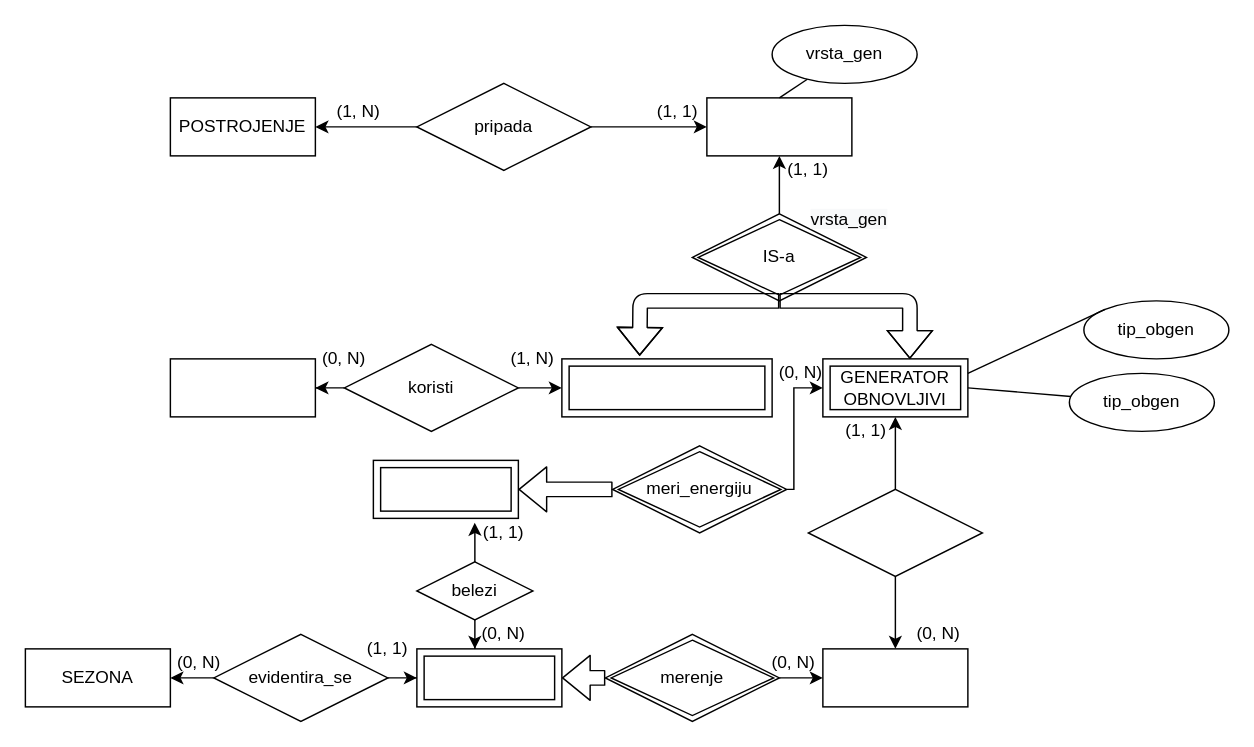
The diagram is 1254 pixels wide and 747 high, and some of its shapes have lost their labels. Each missing label, with the centre of its shape:
"GENERATOR" belongs at (778,126).
"GENERATOR GORIVO" belongs at (666,387).
"KOL_PROIZ" belongs at (445,488).
"LOKACIJA" belongs at (894,677).
"smesten" belongs at (894,532).
"TIP GORIVA" belongs at (242,387).
"VR USLOV" belongs at (488,677).
